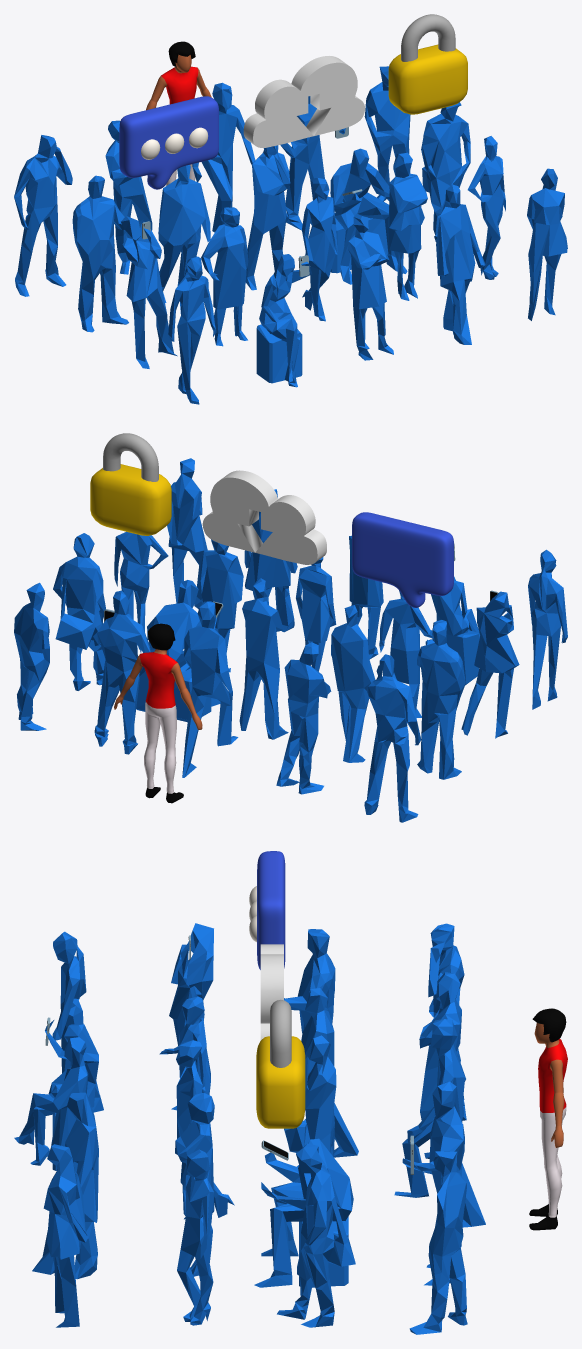
The picture shows the model from 3 angles, top to bottom: view 1: azimuth 30°, elevation 25°; view 2: azimuth 150°, elevation 25°; view 3: azimuth 270°, elevation 25°; orthographic projection. The views are drawn at different scales.
Parts seen in each view (by area): view 1: save__to_cloud, Torus, object 65, Man01, Man06, Woman04, Man02, Woman06, Woman07, Man04, Man05, Woman05 (+14 smaller); view 2: save__to_cloud, object 65, Torus, Man01, Man05, Man06, corpo.001, Man09, Man08, Man03, Man07, Man02 (+15 smaller); view 3: Man05, Man04, Man10, Torus, Woman05, Woman10, corpo.001, Woman04, Man08, Man03, Woman06, object 65 (+14 smaller).
Boxes of the visible parts, x1,y1,x2,y2 form: save__to_cloud: (243, 56, 364, 147); Torus: (388, 14, 467, 114); object 65: (119, 96, 218, 189); Man01: (72, 175, 144, 332); Man06: (14, 135, 72, 296); Woman04: (436, 184, 485, 344); Man02: (158, 165, 210, 303); Woman06: (121, 216, 177, 368); Woman07: (201, 207, 248, 346); Man04: (330, 148, 407, 284); Man05: (421, 102, 470, 241); Woman05: (527, 168, 567, 320); save__to_cloud: (202, 470, 326, 564); object 65: (352, 512, 453, 607); Torus: (90, 433, 171, 535); Man01: (417, 620, 465, 779); Man05: (53, 533, 105, 690); Man06: (364, 654, 421, 822); corpo.001: (114, 649, 202, 803); Man09: (93, 590, 150, 754); Man08: (182, 601, 238, 777); Man03: (239, 578, 288, 739); Man07: (276, 642, 331, 794); Man02: (331, 605, 375, 762); Man05: (277, 1143, 355, 1327); Man04: (254, 1120, 353, 1287); Man10: (409, 1151, 467, 1334); Torus: (256, 999, 305, 1128); Woman05: (43, 1144, 87, 1327); Woman10: (177, 1149, 213, 1325); corpo.001: (529, 1023, 567, 1230); Woman04: (32, 1092, 98, 1279); Man08: (394, 1019, 485, 1227); Man03: (305, 1035, 336, 1156); Woman06: (169, 923, 213, 1110); object 65: (257, 851, 285, 969).
Bounding box in the file's own units: 4.64 × 2.67 × 4.42.
